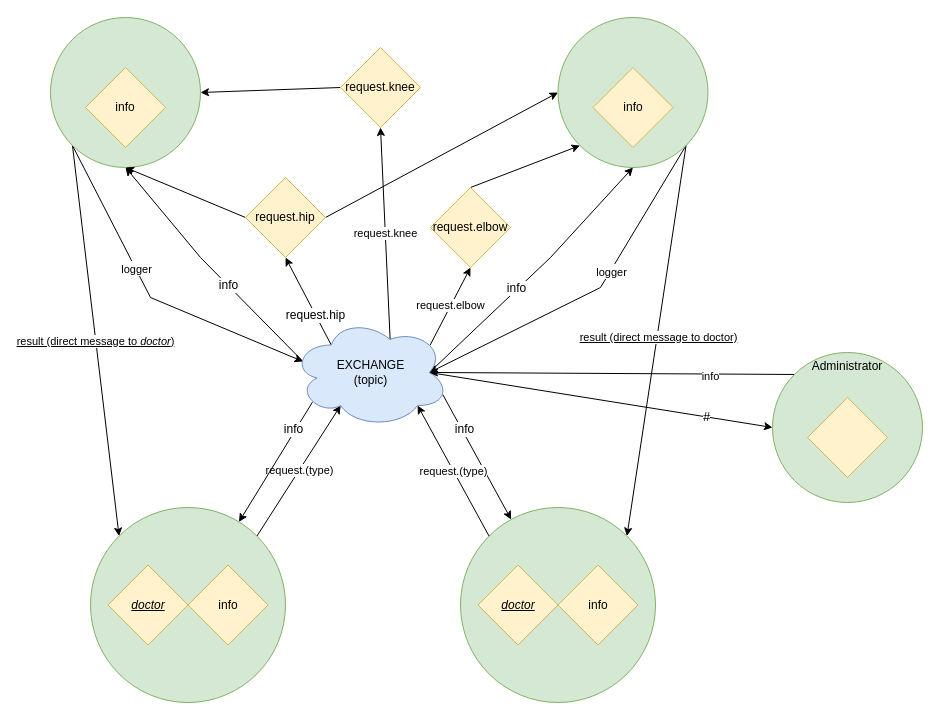
The diagram is 941 pixels wide and 720 high, and some of its shapes have lost their labels. The shapes that lost their labels are listed below. From the top down, each one's box as (x1, y1, x2, y2) in pixels, then its label:
(50, 16, 200, 168): TECH knee, hip
(557, 16, 708, 168): TECH hip, elbow
(806, 396, 888, 478): # (loggerQ)
(90, 506, 286, 702): DOCTOR1
(460, 506, 656, 702): DOCTOR2
